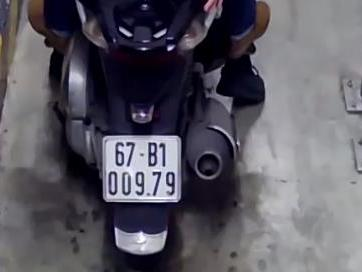num_plate: (100, 135, 188, 210)
